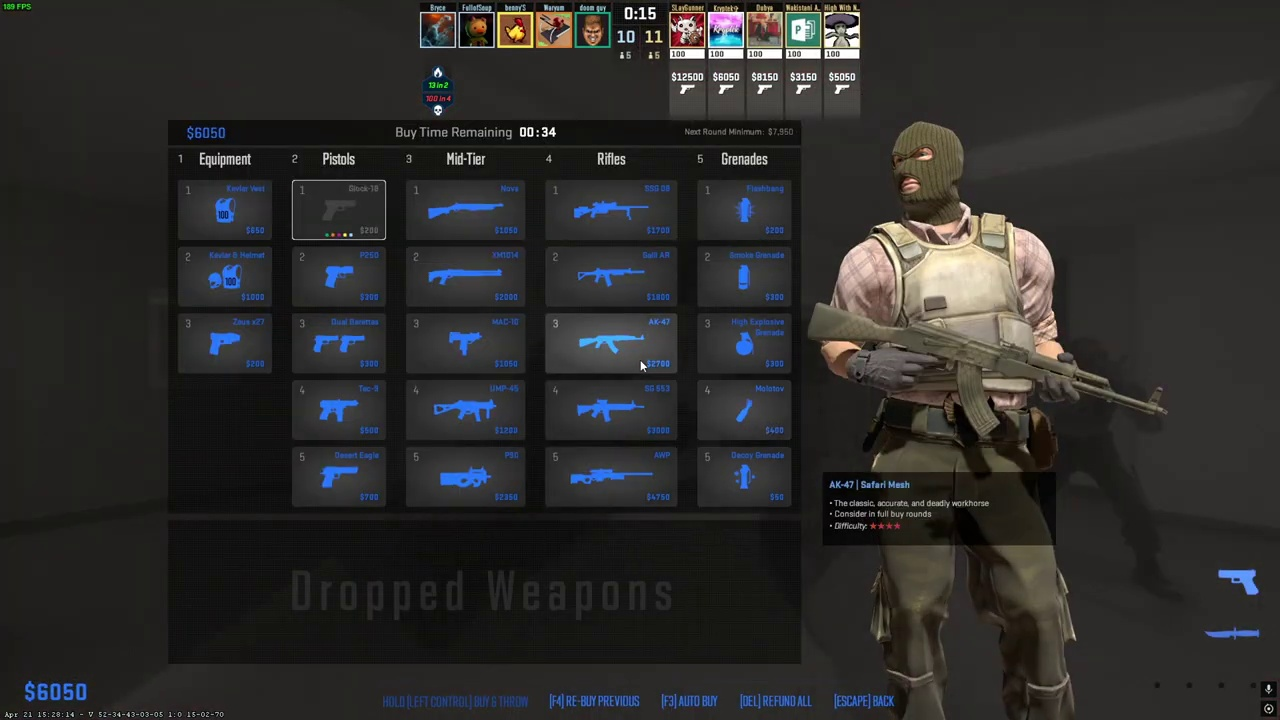Terrorist: (846, 121, 1075, 720)
